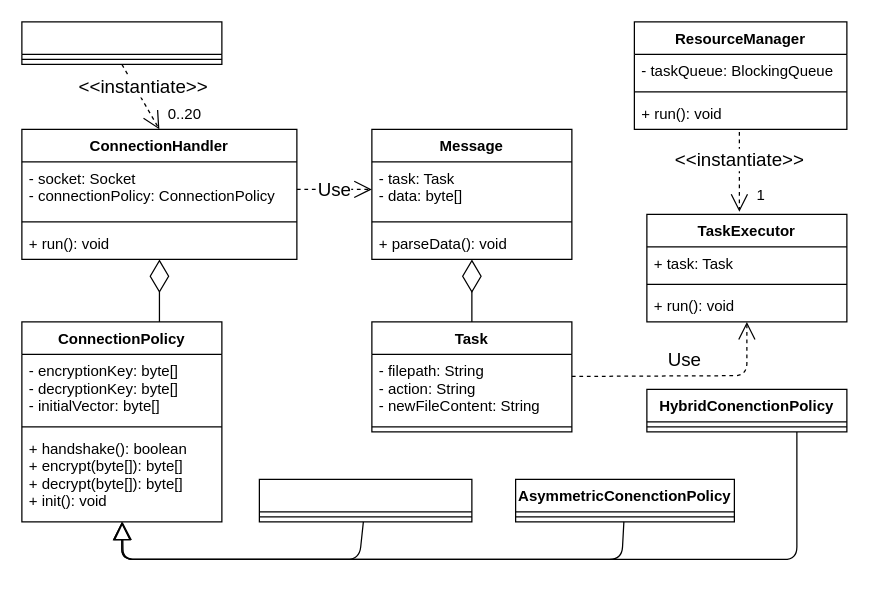
Some shapes in this 869 by 599 pixel diagram are drawn without their labels. The shapes that lost their labels are listed below. From the top down, each one's centre as x and y in pixels, then its label:
At [121,42]: "Server".
At [365,500]: "SymmetricConenctionPolicy".
